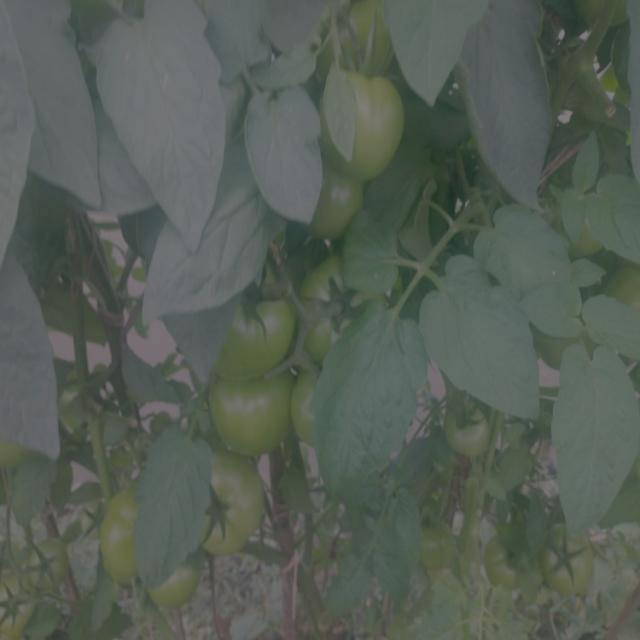tomato: (318, 74, 407, 178), (301, 263, 370, 357), (216, 379, 290, 457), (206, 462, 270, 551), (321, 6, 397, 75), (231, 295, 293, 373), (105, 490, 154, 580), (545, 524, 602, 596), (444, 399, 490, 461), (486, 540, 537, 588), (316, 183, 362, 236), (27, 539, 71, 592), (154, 567, 203, 603), (420, 521, 455, 568), (574, 1, 627, 32), (298, 367, 319, 439), (1, 578, 25, 639), (601, 265, 640, 302), (572, 236, 601, 261)
